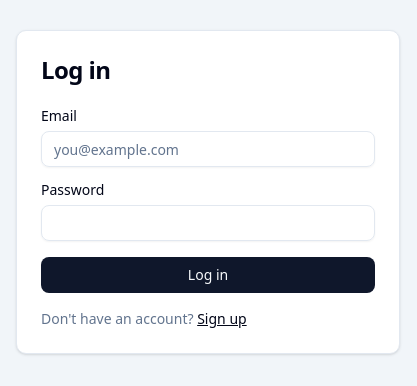
Test: LoginPage › shows an inline error for an invalid email
In the field labelled "Email": (208, 149) [41,131,375,167], type "not-an-email"
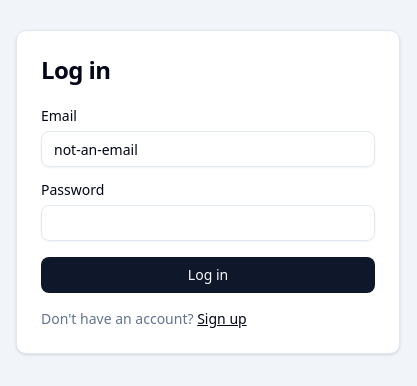
In the password field labelled "Password": (208, 223) [41,205,375,241], type "password123"
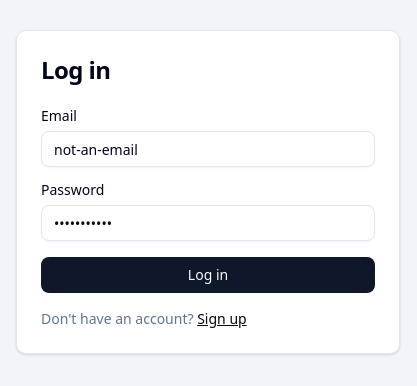
Click the button "Log in": (208, 275) [41,257,375,293]
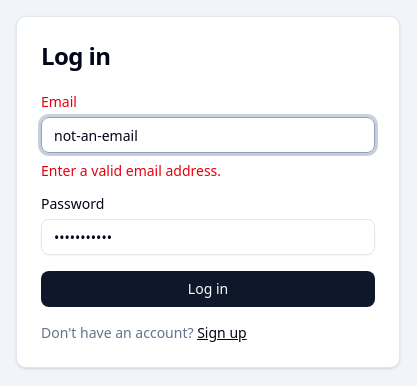
Check: the text "Enter a valid email address." is shown, box [41,161,221,180]
